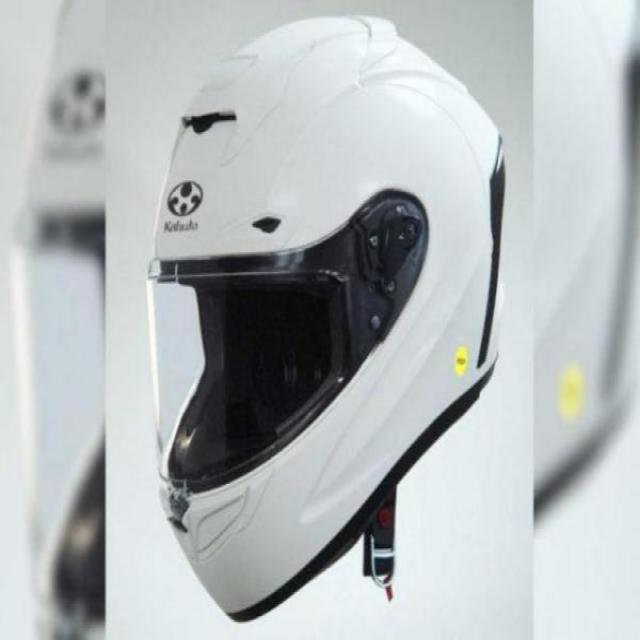Helmet: (145, 20, 516, 619)
